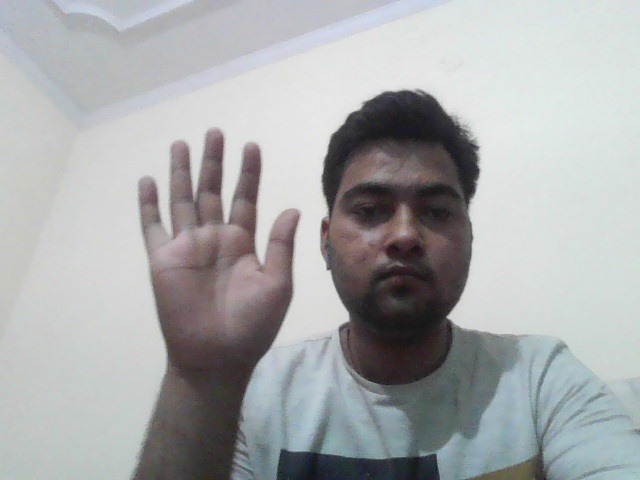Hello: (130, 120, 306, 366)
